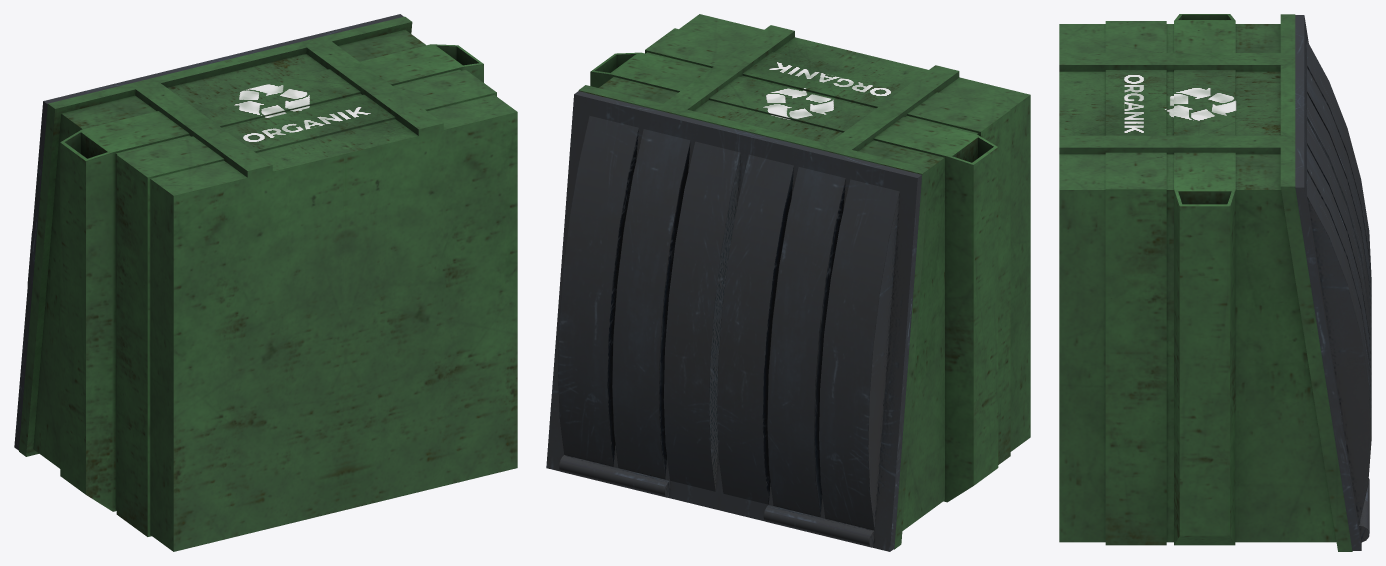
Rendered from dump1.fbx.
The picture shows the model from 3 angles, left to right: view 1: azimuth 30°, elevation 25°; view 2: azimuth 150°, elevation 25°; view 3: azimuth 270°, elevation 25°; orthographic projection. The views are drawn at different scales.
Parts seen in each view (by area): view 1: dump1, dump1_tutup2, dump1_tutup1; view 2: dump1, dump1_tutup2, dump1_tutup1; view 3: dump1, dump1_tutup1, dump1_tutup2.
Part boxes in pixels (left/top/right/bottom): dump1: left=19, top=16, right=517, bottom=551; dump1_tutup2: left=14, top=57, right=224, bottom=450; dump1_tutup1: left=222, top=14, right=403, bottom=59; dump1: left=578, top=14, right=1030, bottom=549; dump1_tutup2: left=717, top=133, right=921, bottom=551; dump1_tutup1: left=546, top=91, right=749, bottom=509; dump1: left=1059, top=14, right=1352, bottom=551; dump1_tutup1: left=1295, top=101, right=1371, bottom=550; dump1_tutup2: left=1295, top=15, right=1371, bottom=356.
Size of the model in its own units: 234 by 207 by 161.
Materials: 1 (1 with a texture image).
